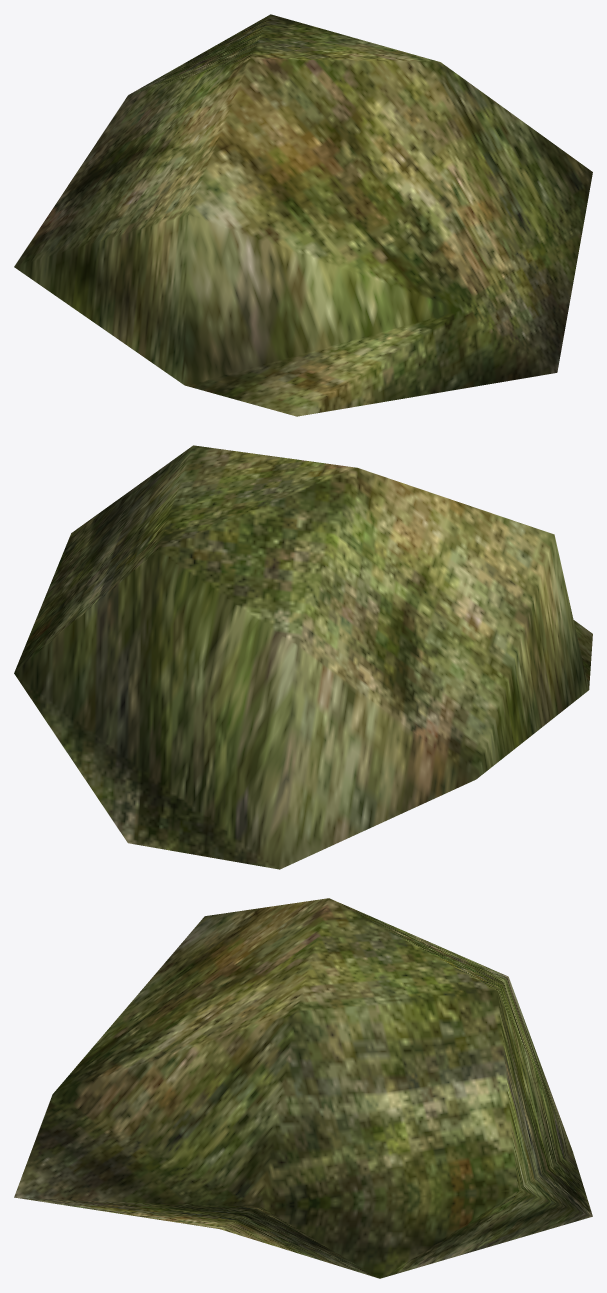
Rendered from rock_endr_mossyrock_sm_l2.fbx.
3 renders of one model, top to bottom at view 1: azimuth 30°, elevation 25°; view 2: azimuth 150°, elevation 25°; view 3: azimuth 270°, elevation 25°, orthographic. The views are drawn at different scales.
Visible parts, largest first — view 1: mesh_node; view 2: mesh_node; view 3: mesh_node.
Boxes of the visible parts, x1,y1,x2,y2 form: mesh_node: (14, 14, 592, 416); mesh_node: (14, 445, 592, 869); mesh_node: (14, 898, 592, 1278).
Size of the model in its own units: 0.959 by 0.5558 by 1.01.
Materials: 1 (1 with a texture image).
